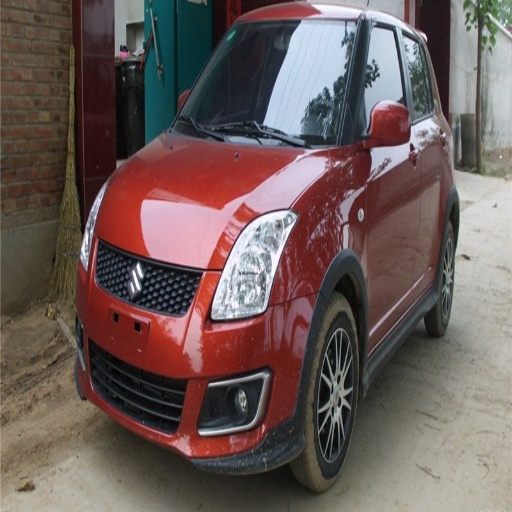front_bumper: (79, 241, 315, 474)
front_glass: (172, 22, 356, 148)
front_left_door: (355, 16, 419, 331)
